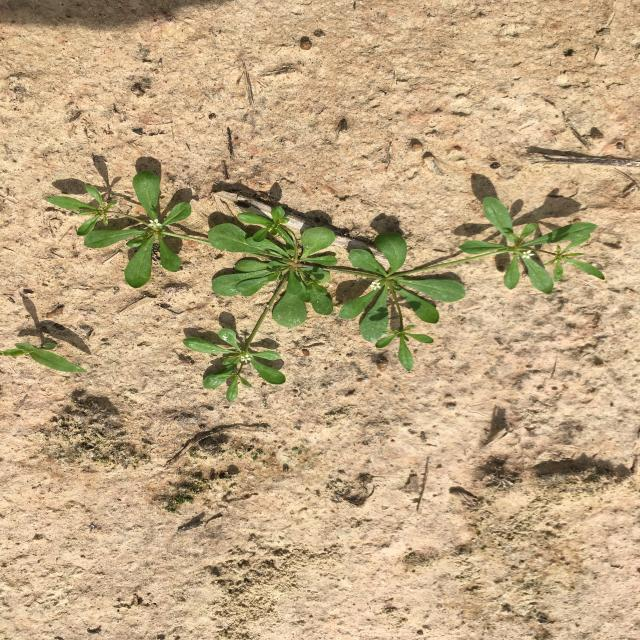Carpetweed: (46, 169, 606, 403)
